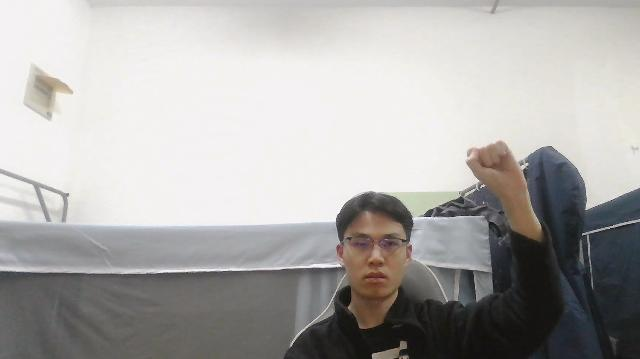five: (463, 139, 526, 192)
